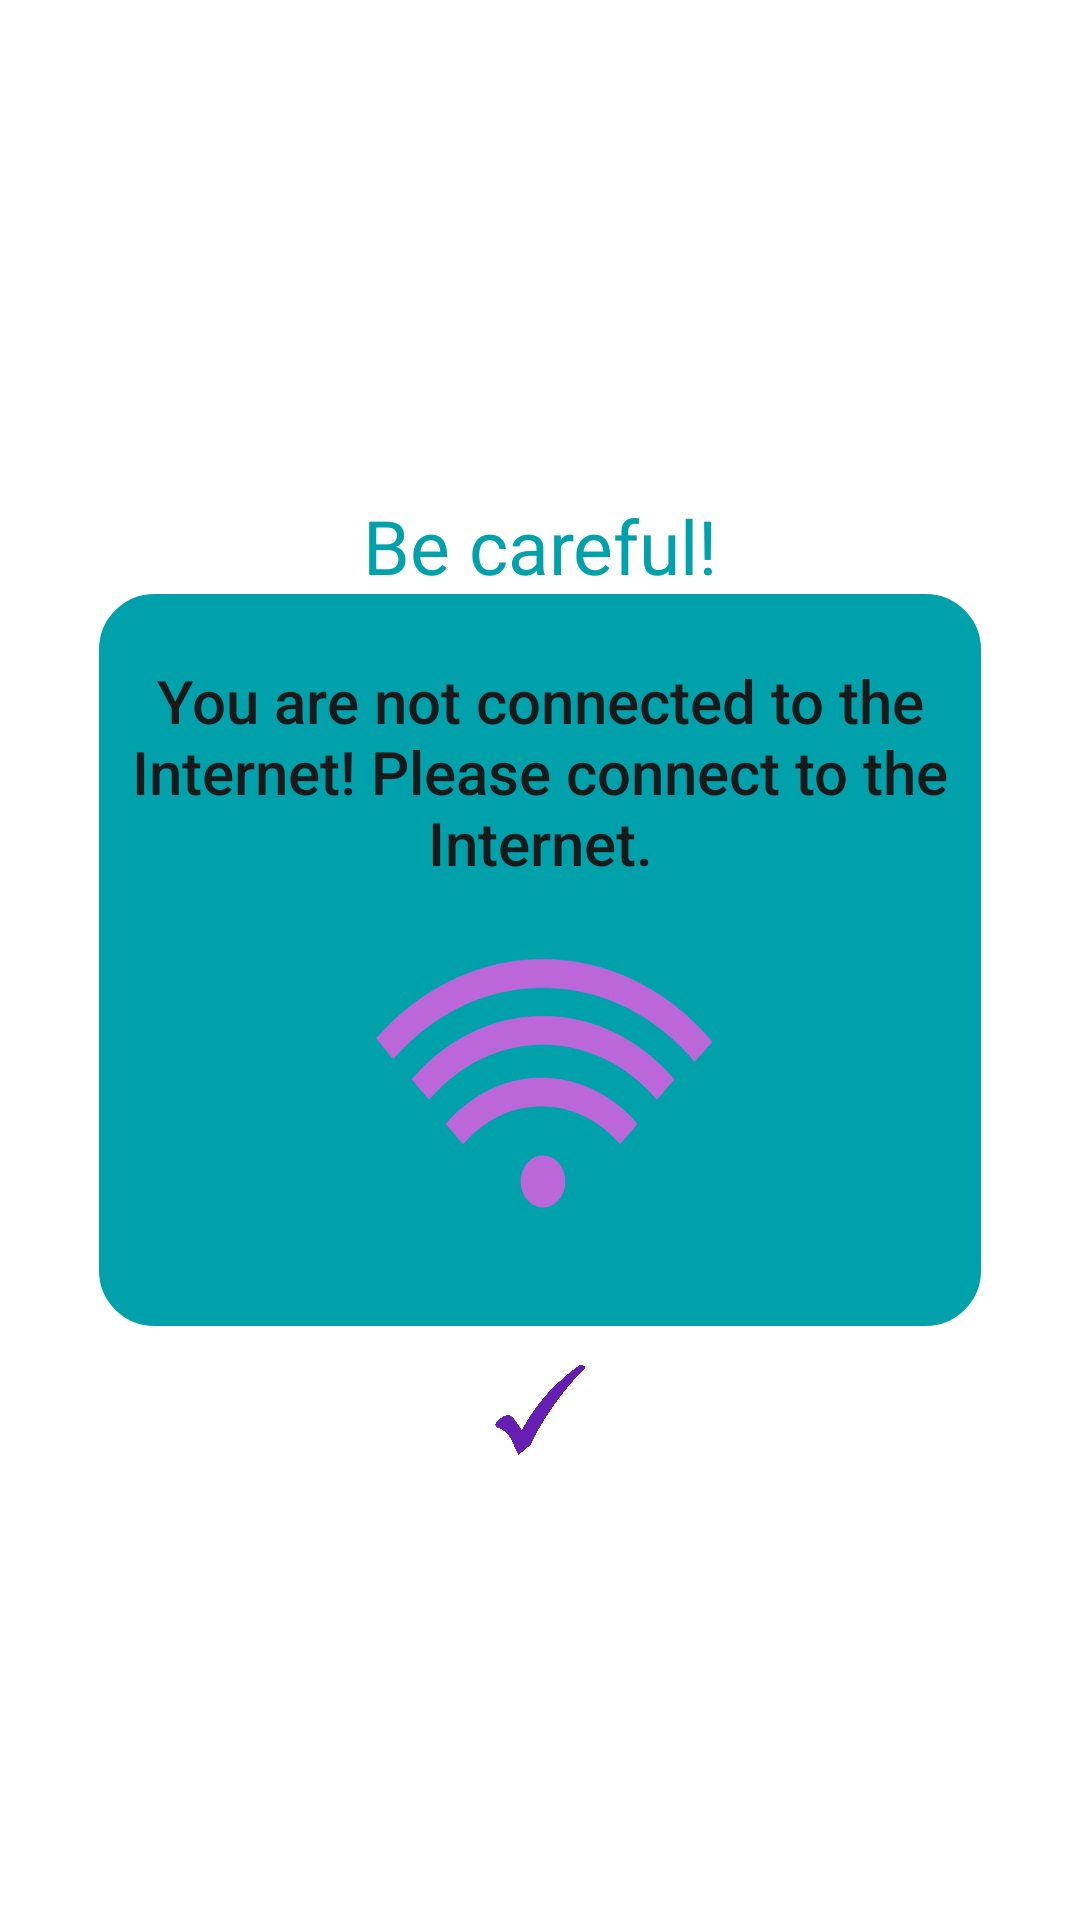

Named icons in this screenshot (1080×1920) and their bounding boxes, detection(x1, y1, x2, y2):
tick: detection(495, 1365, 585, 1455)
wifi: detection(376, 959, 712, 1208)
